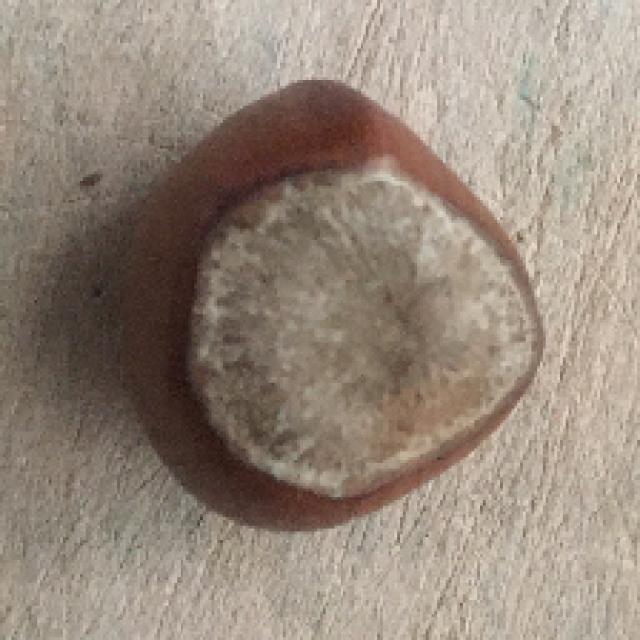QualityHazelnut: (111, 81, 549, 536)
